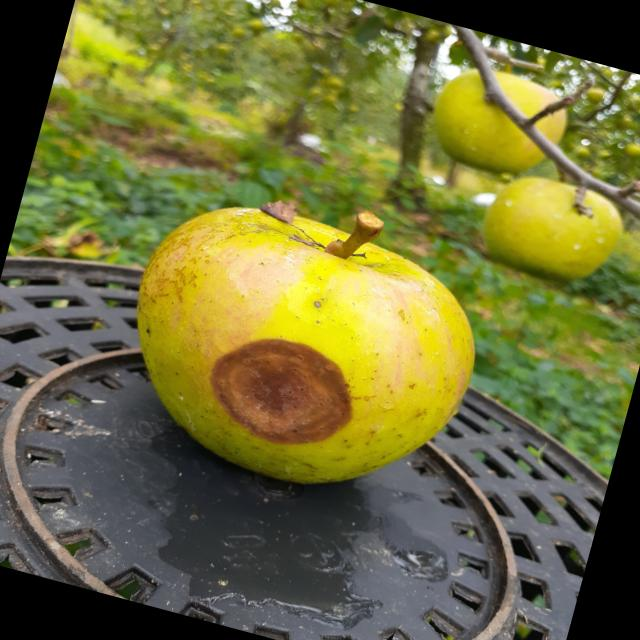rotten: (86, 171, 511, 538)
